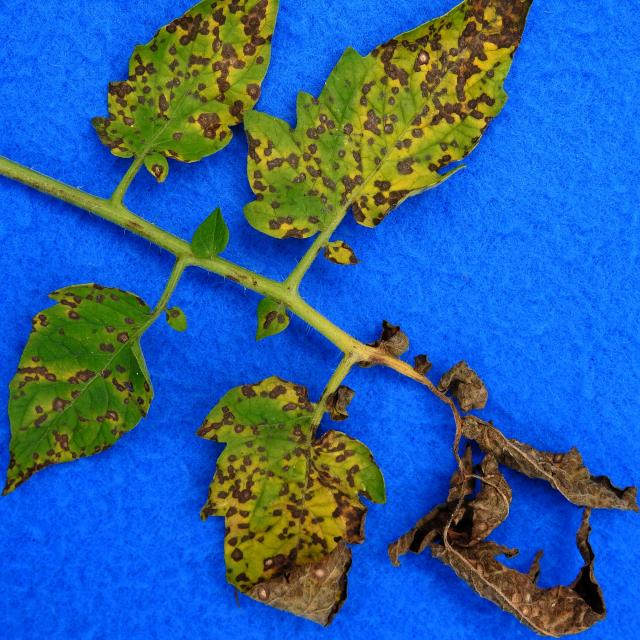Septoria leaf spot: (243, 3, 558, 255), (197, 378, 402, 640), (0, 262, 166, 506), (94, 3, 280, 182)
